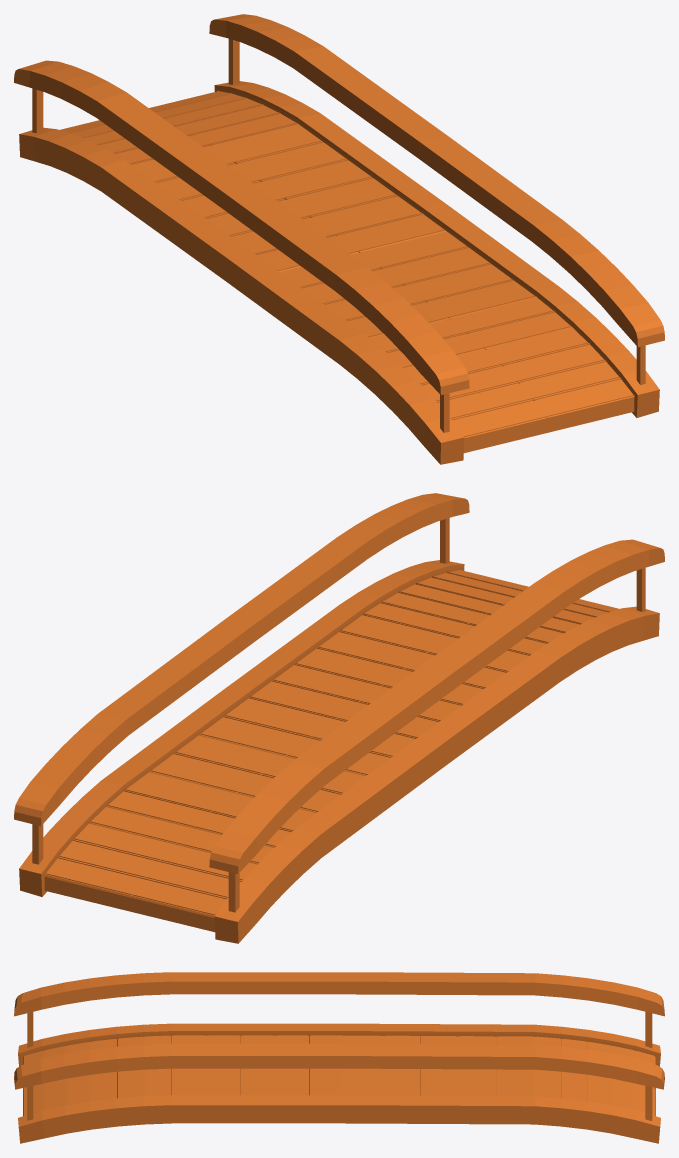
Rendered from Bridge Animated model.fbx.
3 views of the same model, one above another, from view 1: azimuth 30°, elevation 25°; view 2: azimuth 150°, elevation 25°; view 3: azimuth 270°, elevation 25° (orthographic). The views are drawn at different scales.
Visible parts, largest first — view 1: Cube; view 2: Cube; view 3: Cube.
Part boxes in pixels (x1,y1,x2,y2): Cube: [14, 14, 664, 464]; Cube: [14, 493, 664, 943]; Cube: [14, 972, 664, 1143].
Bounding box in the file's own units: 1056 × 531 × 3430.
